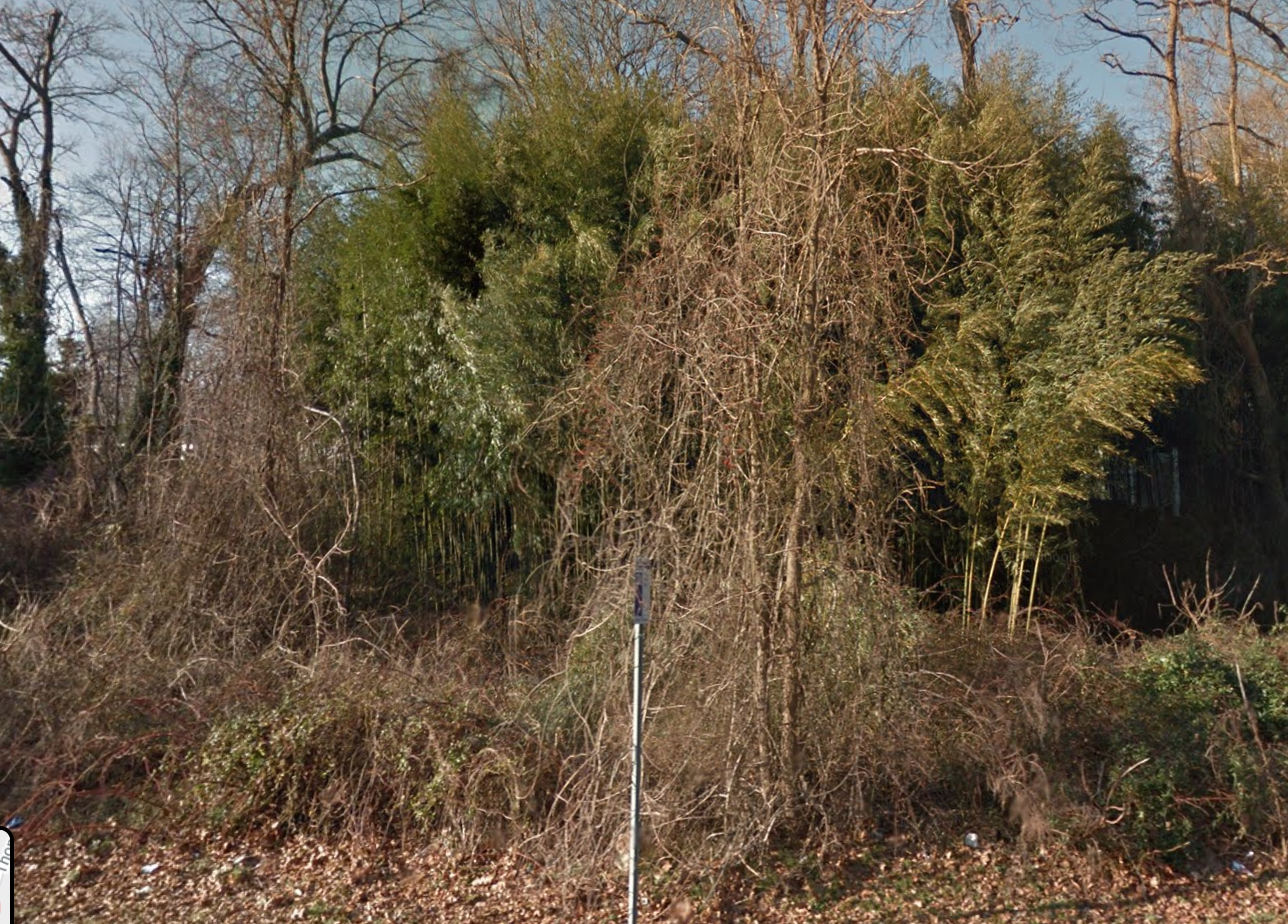bamboo: (907, 101, 1219, 629), (313, 234, 560, 595), (385, 92, 638, 406)
